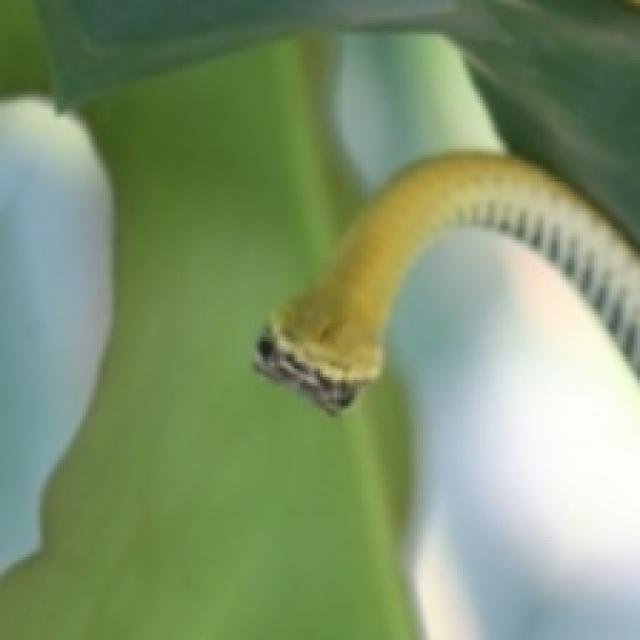paradise tree snake: (257, 151, 637, 411)
